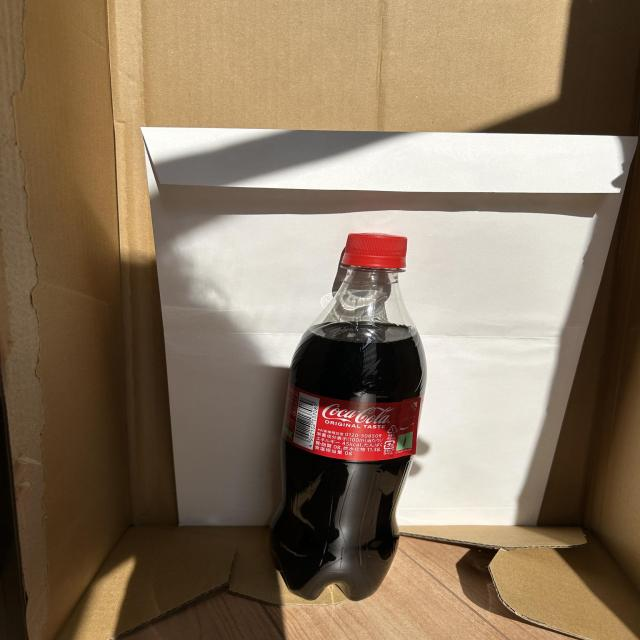high: (270, 233, 426, 600)
